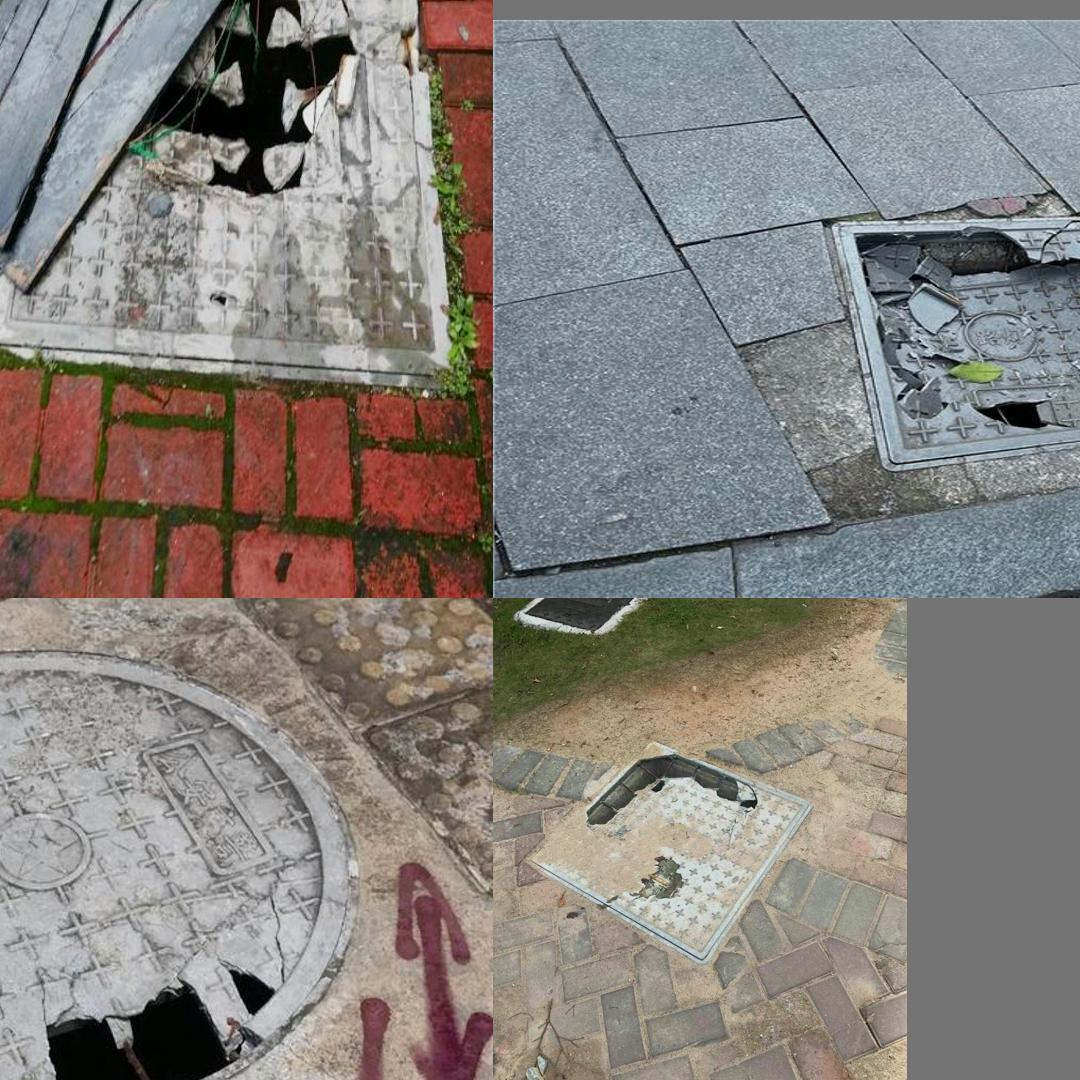broke: (0, 0, 453, 399), (0, 646, 375, 1080), (796, 196, 1080, 483), (522, 739, 811, 966)
